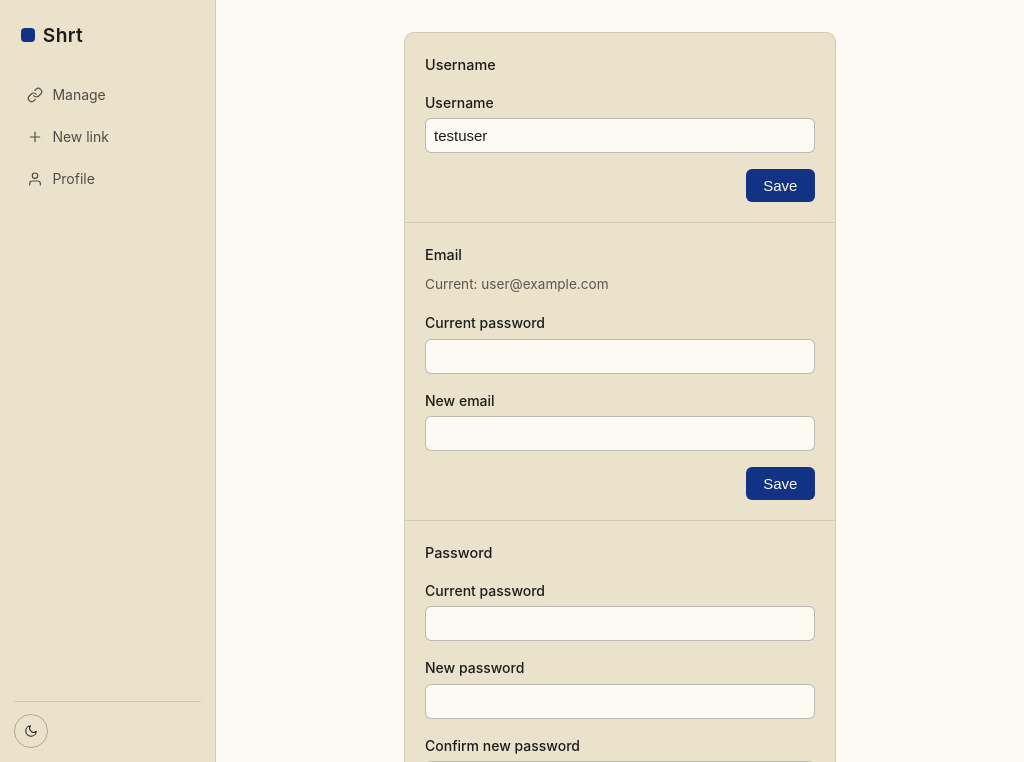
it: ProfileView username section › shows conflict error on 409
Replace the text in the field labelled "Username" with "taken" at (620, 136), box [425,118,815,153]
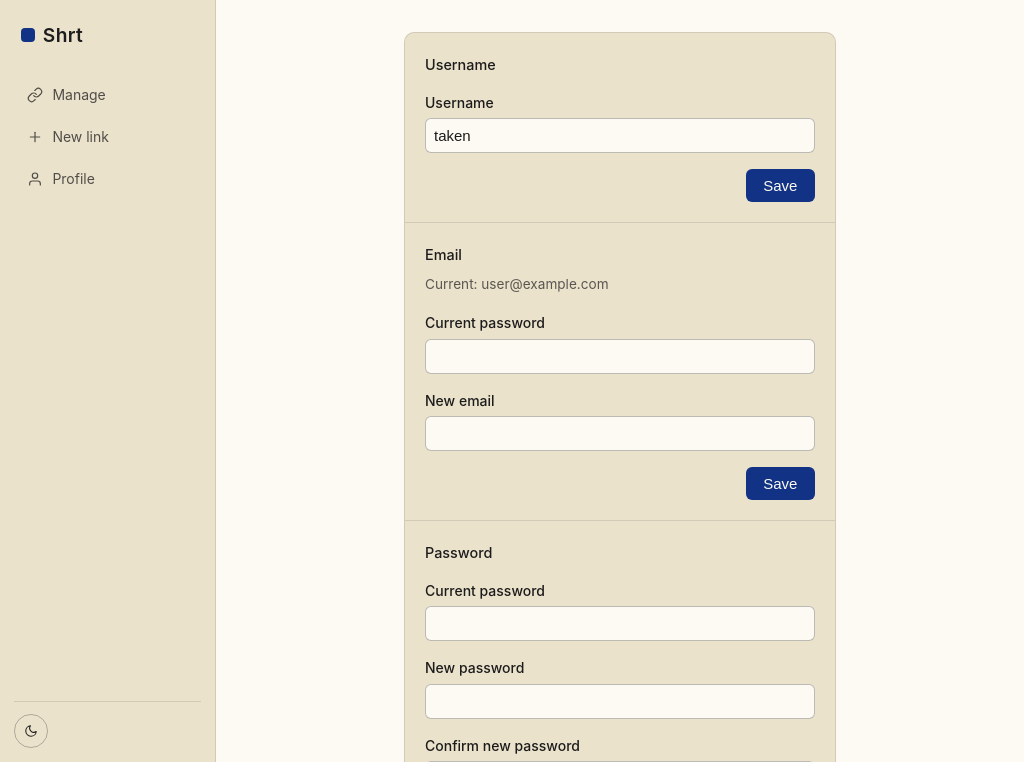
Submit the form "Username Save", box [425,92,815,202]
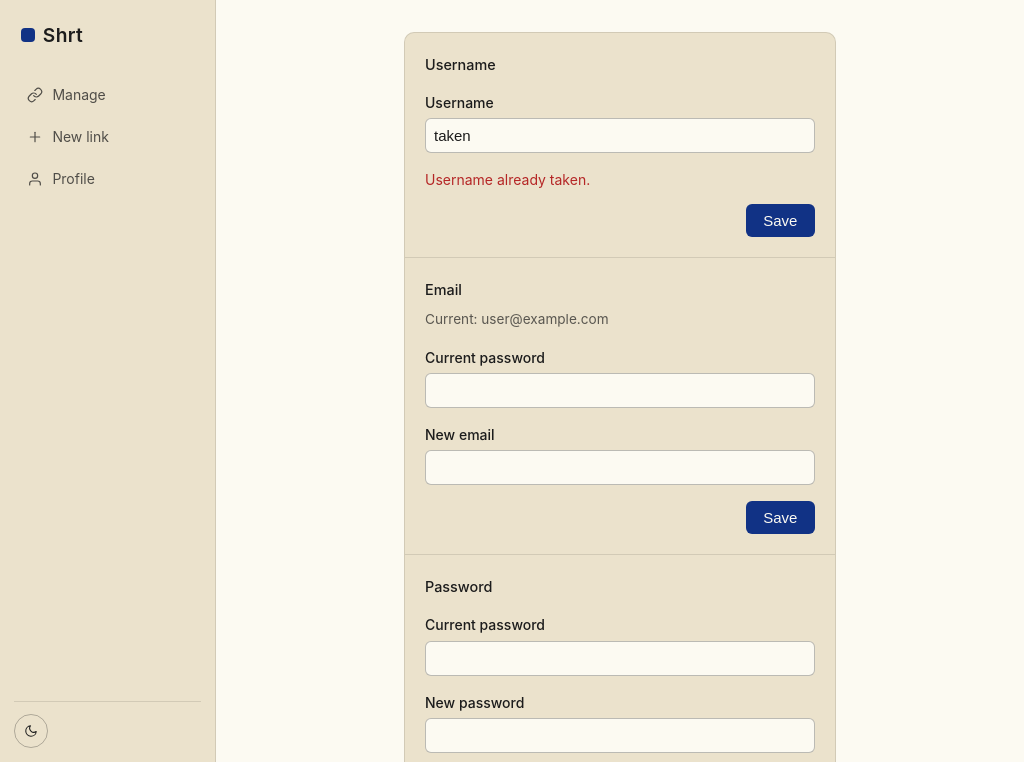
Expected: the text "Username already taken." is shown, [425,171,590,188]
